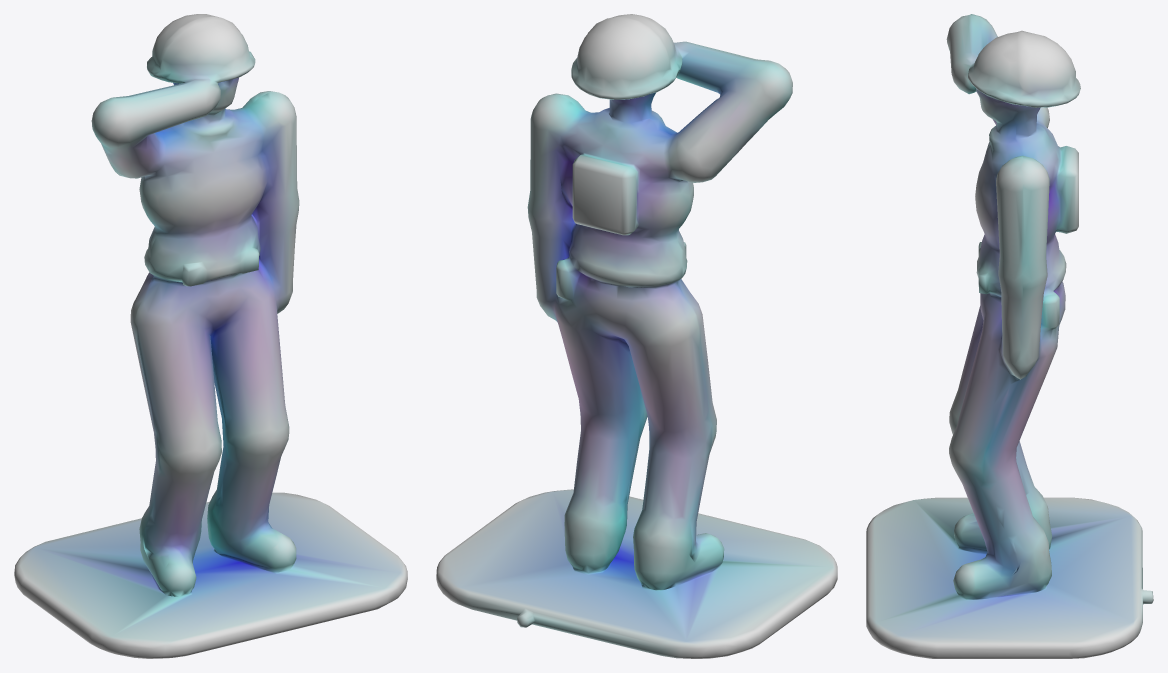
File: oberst-lod1.glb
3 views of the same model, side by side, from view 1: azimuth 30°, elevation 25°; view 2: azimuth 150°, elevation 25°; view 3: azimuth 270°, elevation 25° (orthographic). The views are drawn at different scales.
Visible parts, largest first — view 1: oberst-lod1; view 2: oberst-lod1; view 3: oberst-lod1.
Part boxes in pixels (box(x1,y1,x2,y2)): oberst-lod1: box(14, 14, 407, 658); oberst-lod1: box(436, 14, 837, 658); oberst-lod1: box(866, 14, 1153, 658).
Size of the model in its own units: 0.4599 by 0.7905 by 0.3739.
